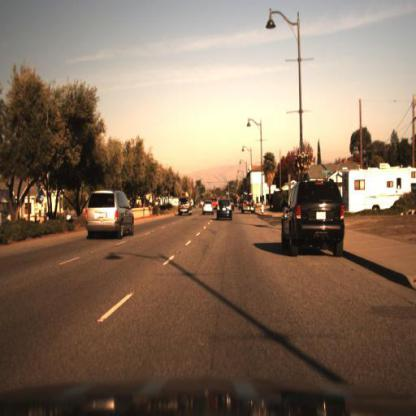car: (277, 175, 354, 268), (76, 177, 140, 248), (175, 191, 197, 225), (214, 196, 238, 224), (240, 192, 259, 220), (199, 195, 216, 220), (229, 192, 239, 213)
